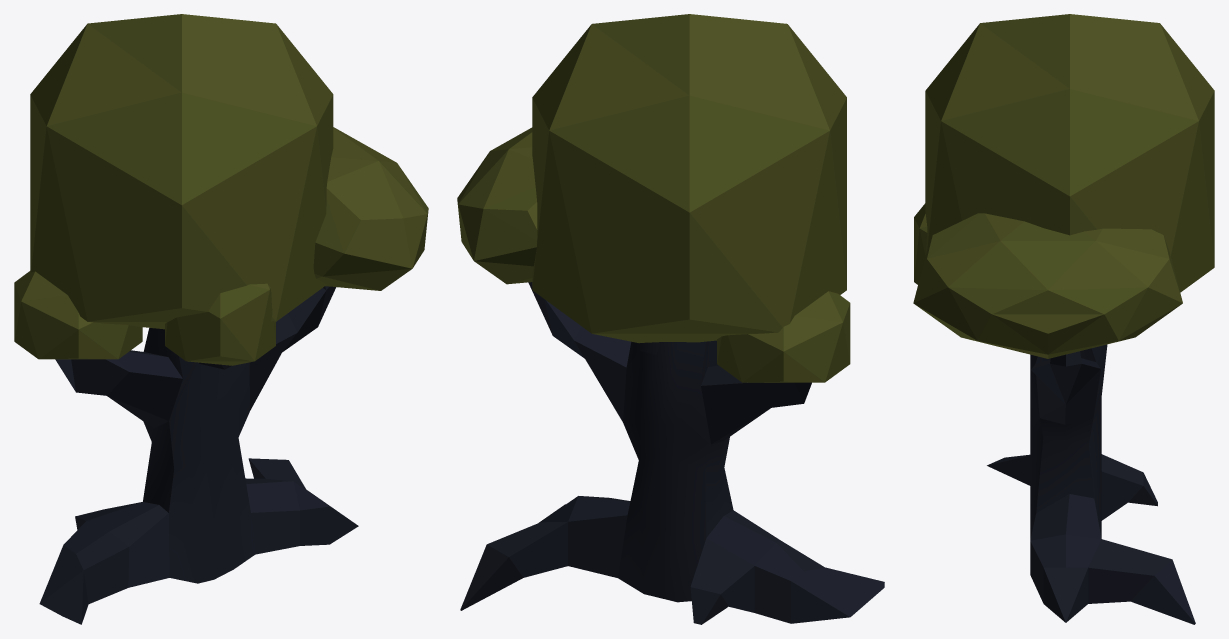
Rendered from DarkGreenTree.FBX.
3 views of the same model, side by side, from view 1: azimuth 30°, elevation 25°; view 2: azimuth 150°, elevation 25°; view 3: azimuth 270°, elevation 25° (orthographic). The views are drawn at different scales.
Parts seen in each view (by area): view 1: GeoSphere002, Box001; view 2: GeoSphere002, Box001; view 3: GeoSphere002, Box001.
Boxes of the visible parts, <box> form: GeoSphere002: <box>14,14,428,365</box>; Box001: <box>39,286,358,624</box>; GeoSphere002: <box>457,14,850,382</box>; Box001: <box>460,282,884,624</box>; GeoSphere002: <box>913,14,1214,358</box>; Box001: <box>987,344,1195,624</box>.
Size of the model in its own units: 113 by 167 by 84.46.
